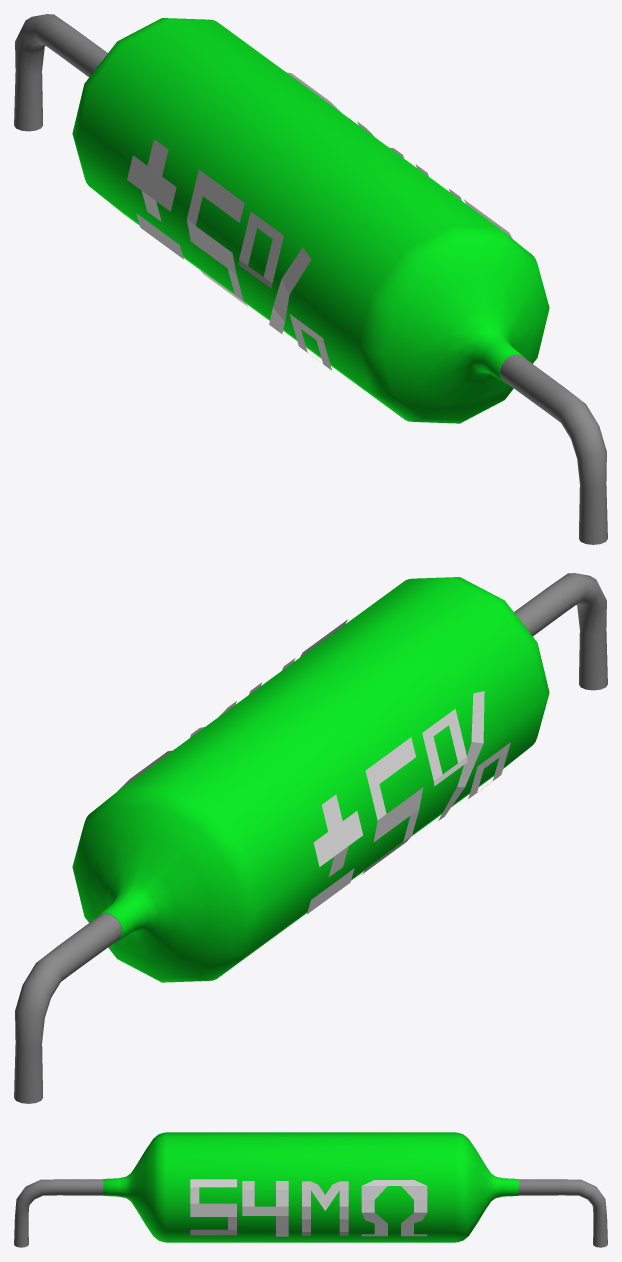
The model's file is resistor_cylinder_54MOhm.fbx.
3 views of the same model, one above another, from view 1: azimuth 30°, elevation 25°; view 2: azimuth 150°, elevation 25°; view 3: azimuth 270°, elevation 25° (orthographic). The views are drawn at different scales.
Parts seen in each view (by area): view 1: rezystor_cylinder 54MOhm; view 2: rezystor_cylinder 54MOhm; view 3: rezystor_cylinder 54MOhm.
Boxes of the visible parts, x1,y1,x2,y2 form: rezystor_cylinder 54MOhm: (14, 14, 607, 544); rezystor_cylinder 54MOhm: (14, 573, 607, 1103); rezystor_cylinder 54MOhm: (14, 1132, 607, 1247).
Bounding box in the file's own units: 209 × 214 × 1074.
